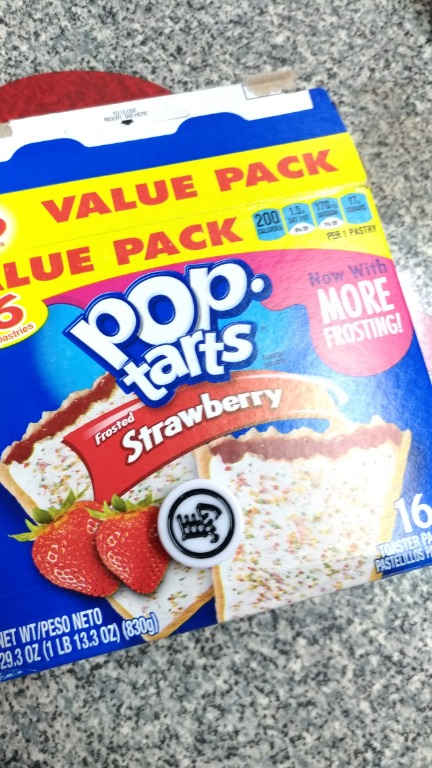b-knight: (140, 473, 265, 582)
